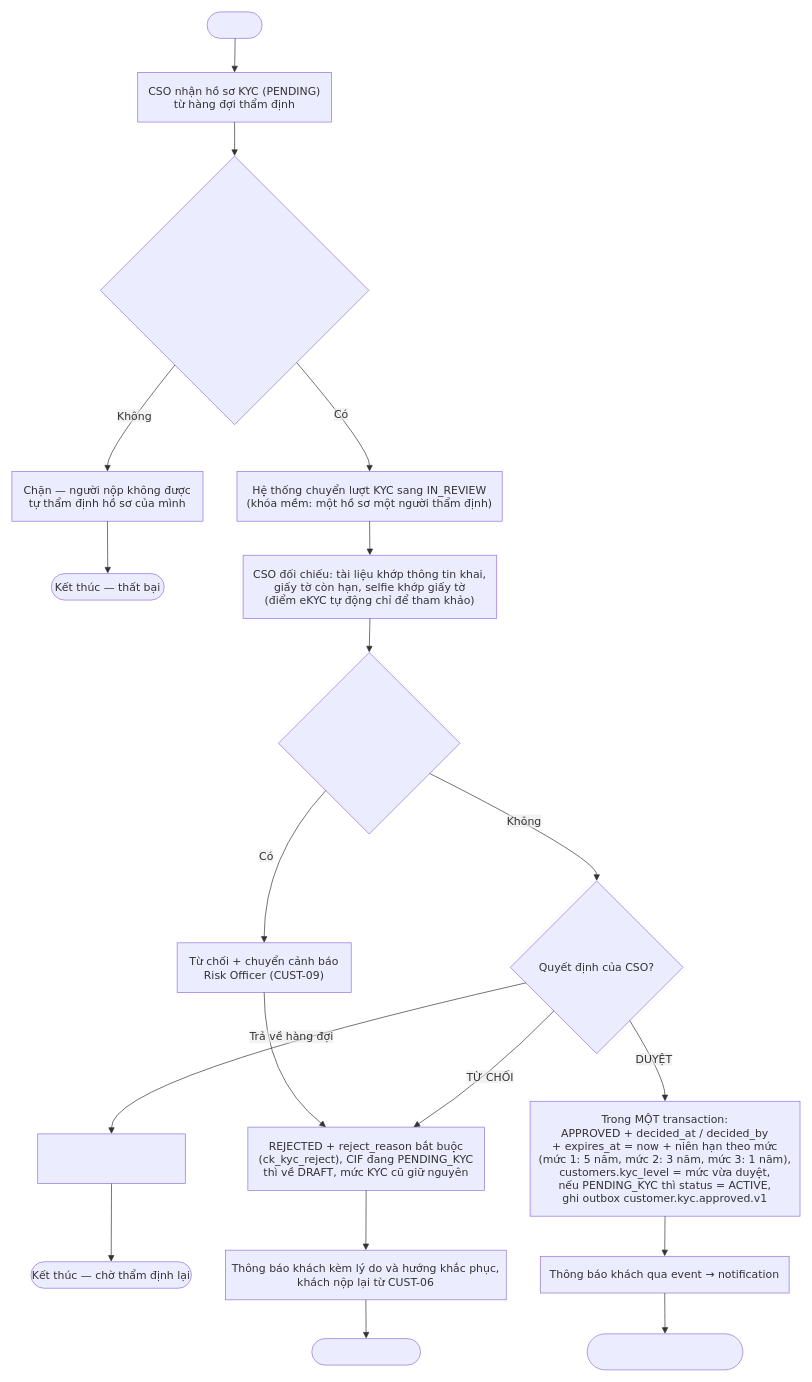
Image size: 812x1382. Some labels were removed from this diagram. Each missing label, with the centre of its shape:
Bắt đầu: (x=234, y=24)
Kết thúc — KYC được duyệt, CIF ACTIVE: (x=664, y=1351)
Kết thúc — từ chối: (x=366, y=1351)
Lượt KYC về PENDING (chưa quyết định): (x=111, y=1158)
Nghi giả mạo tài liệu?: (x=369, y=743)
Người duyệt khác người nộp? (maker–checker — BR-CUST-07-1): (x=234, y=290)
